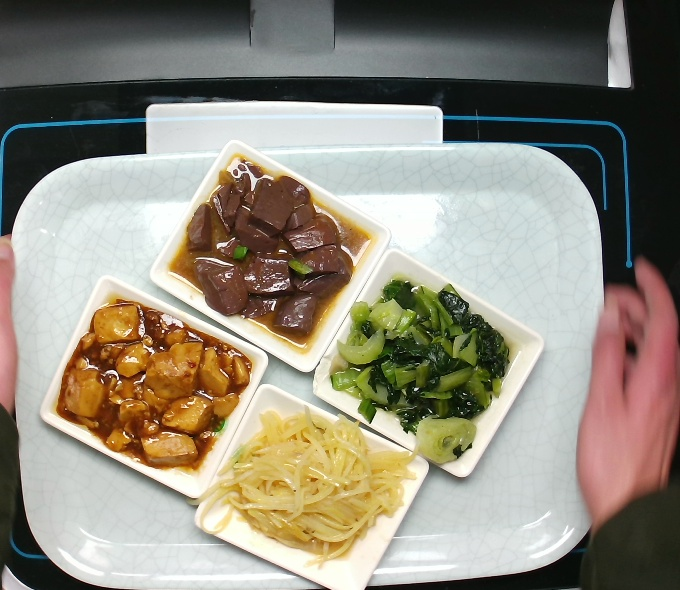wcq-MaPoDouFu: (64, 309, 252, 472)
wcq-NiuXue: (191, 169, 357, 326)
wcq-TuDouSi: (225, 416, 410, 564)
wcq-YouDongCai: (329, 276, 515, 456)
